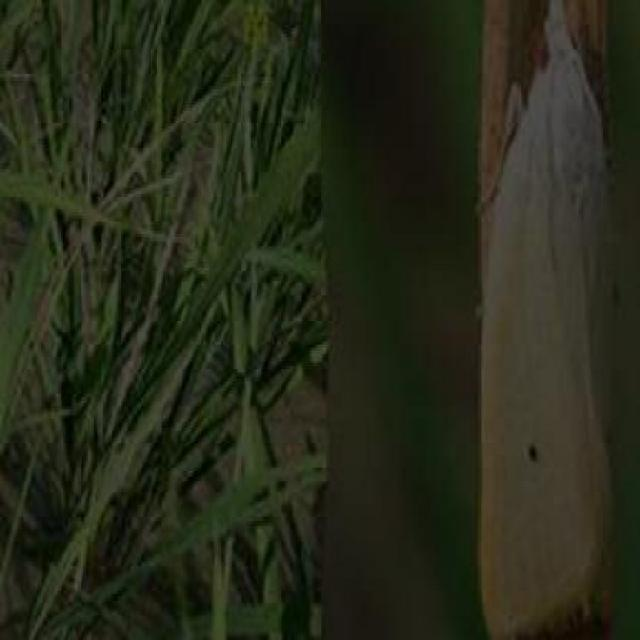stem-borer: (475, 0, 620, 640)
